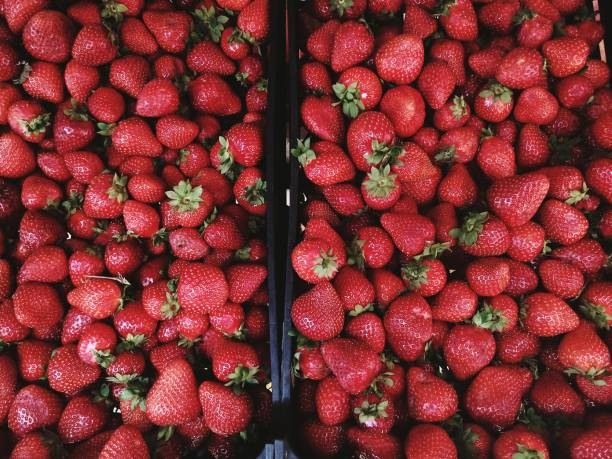Fresa: (464, 363, 539, 427), (140, 356, 204, 425), (318, 336, 392, 395), (483, 168, 552, 228), (193, 378, 256, 440), (207, 332, 266, 392), (380, 306, 437, 368), (519, 288, 591, 337), (441, 324, 499, 382), (378, 212, 444, 261), (560, 316, 611, 379), (294, 280, 344, 344), (18, 8, 75, 64), (403, 371, 460, 427), (348, 106, 397, 171), (45, 343, 104, 395), (174, 262, 228, 317), (54, 392, 109, 446), (8, 384, 67, 434), (382, 137, 444, 184), (547, 235, 612, 279), (326, 16, 375, 74), (301, 215, 350, 273), (375, 30, 423, 89), (65, 274, 126, 320), (537, 196, 592, 247), (102, 115, 164, 160), (299, 140, 359, 185), (137, 10, 201, 51), (186, 70, 242, 116), (333, 263, 379, 319), (299, 95, 352, 142), (381, 82, 426, 137), (459, 213, 514, 258), (16, 58, 66, 107), (221, 256, 270, 306), (540, 32, 589, 82), (532, 162, 590, 204), (160, 183, 215, 227), (49, 104, 94, 157), (13, 284, 67, 328), (292, 237, 341, 285), (136, 278, 186, 325), (69, 20, 120, 66), (504, 215, 548, 268), (430, 279, 480, 325), (333, 64, 384, 109), (401, 256, 452, 301), (129, 76, 182, 119), (13, 246, 68, 287), (418, 57, 459, 112), (464, 254, 514, 299), (82, 172, 125, 224), (401, 422, 461, 459), (74, 322, 120, 370), (498, 47, 544, 95), (351, 223, 397, 271), (474, 127, 516, 179), (320, 177, 368, 222), (494, 424, 555, 459), (109, 53, 155, 99), (19, 168, 64, 215), (511, 85, 559, 129), (438, 162, 482, 210), (539, 258, 588, 301), (435, 1, 485, 43), (20, 213, 68, 256), (433, 121, 481, 164), (184, 39, 236, 78), (221, 123, 266, 168), (104, 232, 148, 278), (8, 99, 52, 144), (352, 392, 398, 435), (368, 267, 410, 314), (311, 379, 352, 427), (121, 199, 162, 246), (199, 211, 247, 251), (360, 168, 404, 211), (473, 79, 514, 125), (61, 60, 101, 106), (156, 111, 202, 151), (520, 122, 556, 170), (233, 1, 273, 44), (512, 11, 555, 51), (232, 167, 266, 215), (482, 296, 521, 334), (66, 246, 107, 282), (63, 150, 104, 183), (127, 170, 165, 201)
